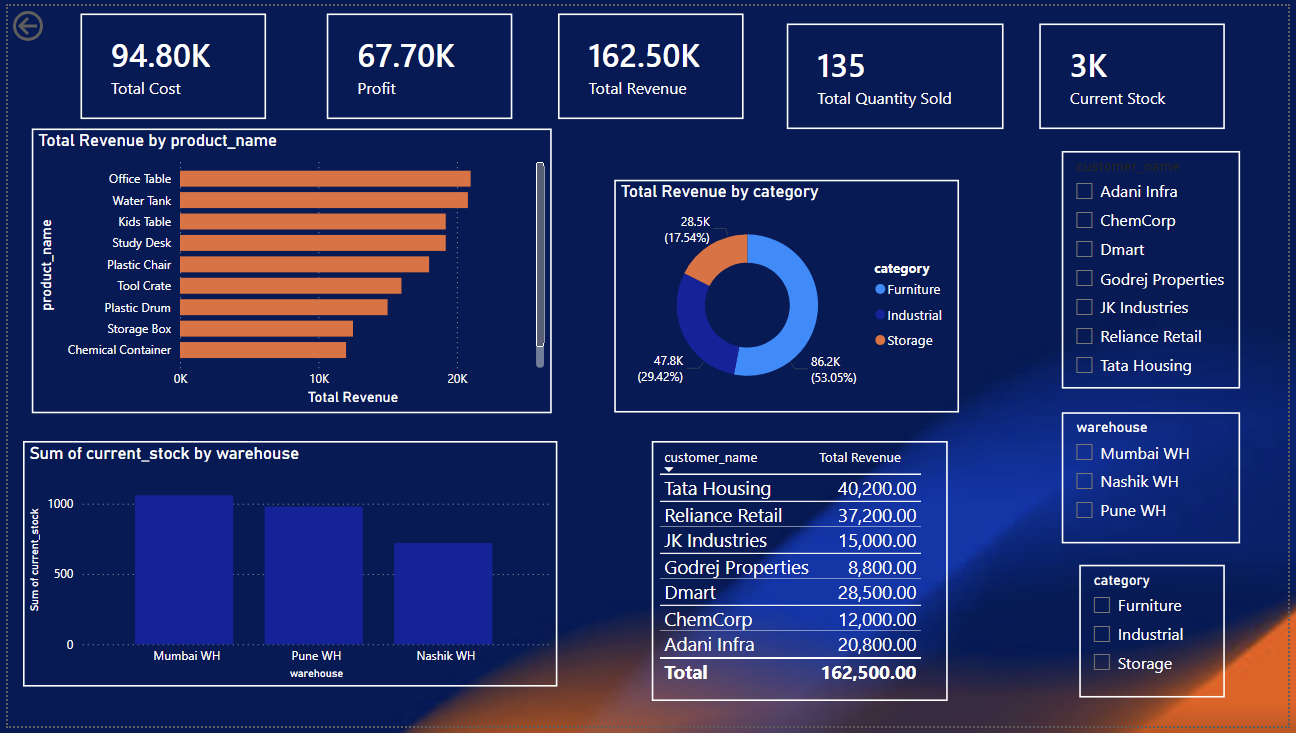

What the dashboard file says about the page in this screenshot:
{"tool":"powerbi","page":{"name":"Page 1","canvas":[1280,720],"ordinal":0},"visuals":[{"type":"clusteredBarChart","fields":{"Category":["public products.product_name"],"Y":["public sales.Total Revenue"]},"box":[23.4,122.2,519.9,284.6],"z":0},{"type":"clusteredColumnChart","fields":{"Category":["public inventory.warehouse"],"Y":["Sum(public inventory.current_stock)"]},"box":[15.6,435.4,534.2,245.7],"z":1000},{"type":"donutChart","fields":{"Category":["public products.category"],"Y":["public sales.Total Revenue"]},"box":[605.7,174.2,344.4,232.7],"z":2000},{"type":"cardVisual","fields":{"Data":["public sales.Total Cost"]},"box":[72.8,7.8,185.9,105.3],"z":3000},{"type":"tableEx","fields":{"Values":["public sales.customer_name","public sales.Total Revenue"]},"box":[643.4,435.4,296.3,260],"z":5000},{"type":"slicer","fields":{"Values":["public products.category"]},"box":[1071,558.9,145.6,132.6],"z":6000},{"type":"actionButton","box":[0,0,100,40],"z":7000},{"type":"slicer","fields":{"Values":["public sales.customer_name"]},"box":[1054.1,145.6,178.1,237.9],"z":8000},{"type":"slicer","fields":{"Values":["public inventory.warehouse"]},"box":[1054.1,406.8,178.1,131.3],"z":9000},{"type":"cardVisual","fields":{"Data":["public sales.Profit"]},"box":[318.4,7.8,185.9,105.3],"z":12001},{"type":"cardVisual","fields":{"Data":["public sales.Total Quantity Sold"]},"box":[778.6,16.9,217.1,105.3],"z":12002},{"type":"cardVisual","fields":{"Data":["public sales.Total Revenue"]},"box":[549.8,7.8,185.9,105.3],"z":12003},{"type":"cardVisual","fields":{"Data":["public inventory.Current Stock"]},"box":[1030.7,16.9,185.9,105.3],"z":12004}]}

Visuals, with their boxes in screenshot pixels (x1, y1, x2, y2), scaled from the page's 1280x720 canvas onto the 1296x733 screenshot:
clusteredBarChart - public products.product_name x public sales.Total Revenue: 24 124 550 414
clusteredColumnChart - public inventory.warehouse x Sum(public inventory.current_stock): 16 443 557 693
donutChart - public products.category x public sales.Total Revenue: 613 177 962 414
cardVisual - public sales.Total Cost: 74 8 262 115
tableEx - public sales.customer_name x public sales.Total Revenue: 651 443 951 708
slicer - public products.category: 1084 569 1232 704
actionButton: 0 0 101 41
slicer - public sales.customer_name: 1067 148 1248 390
slicer - public inventory.warehouse: 1067 414 1248 548
cardVisual - public sales.Profit: 322 8 511 115
cardVisual - public sales.Total Quantity Sold: 788 17 1008 124
cardVisual - public sales.Total Revenue: 557 8 745 115
cardVisual - public inventory.Current Stock: 1044 17 1232 124
